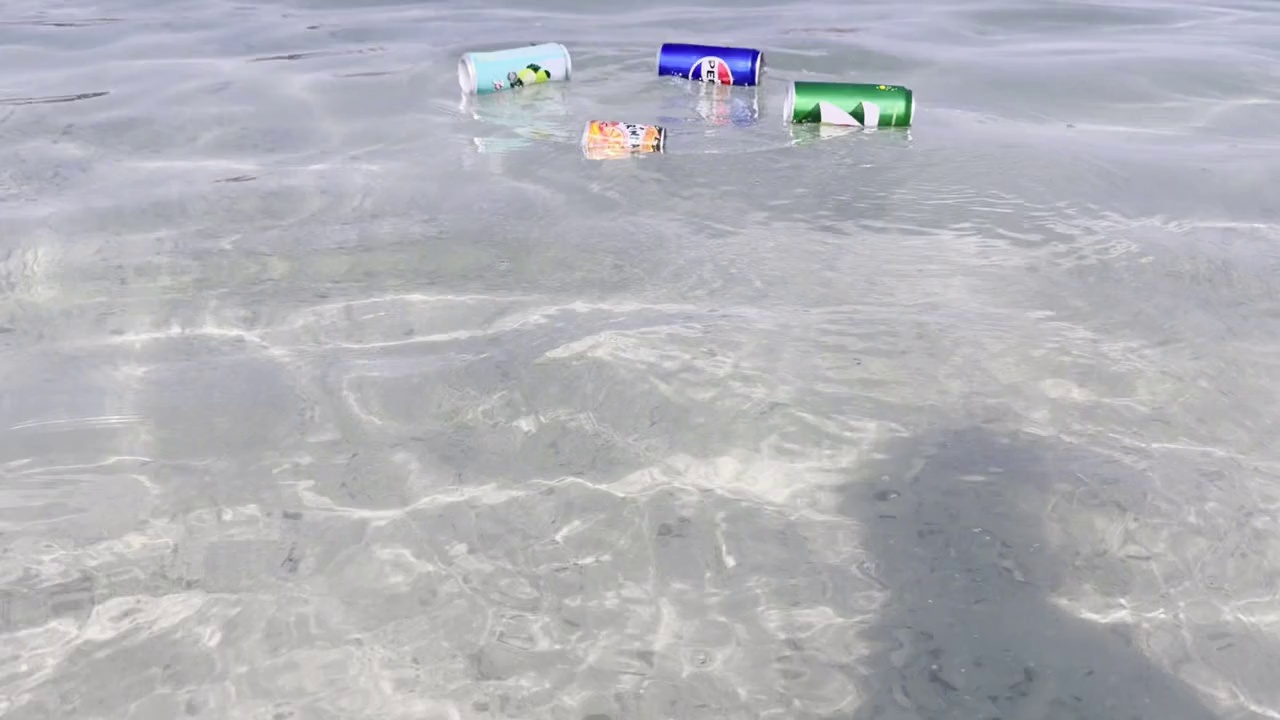debris: (447, 32, 582, 104), (772, 75, 919, 136), (648, 33, 771, 90), (575, 112, 674, 168)
